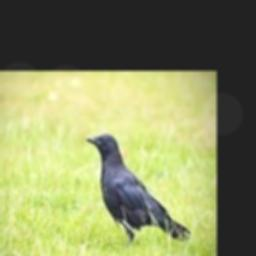Crow: (85, 133, 190, 251)
